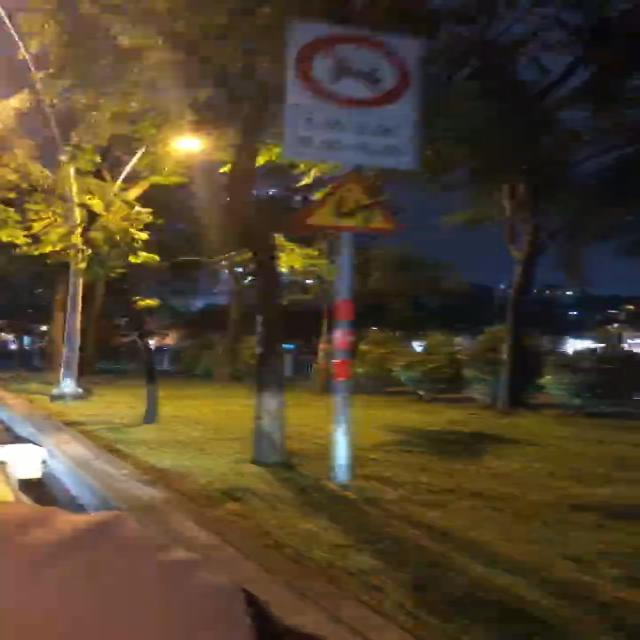Bien bao cam xe oto: (289, 22, 429, 108)
Bien bao nhieu cho ngoat nguy hiem lien tiep: (280, 162, 418, 235)
